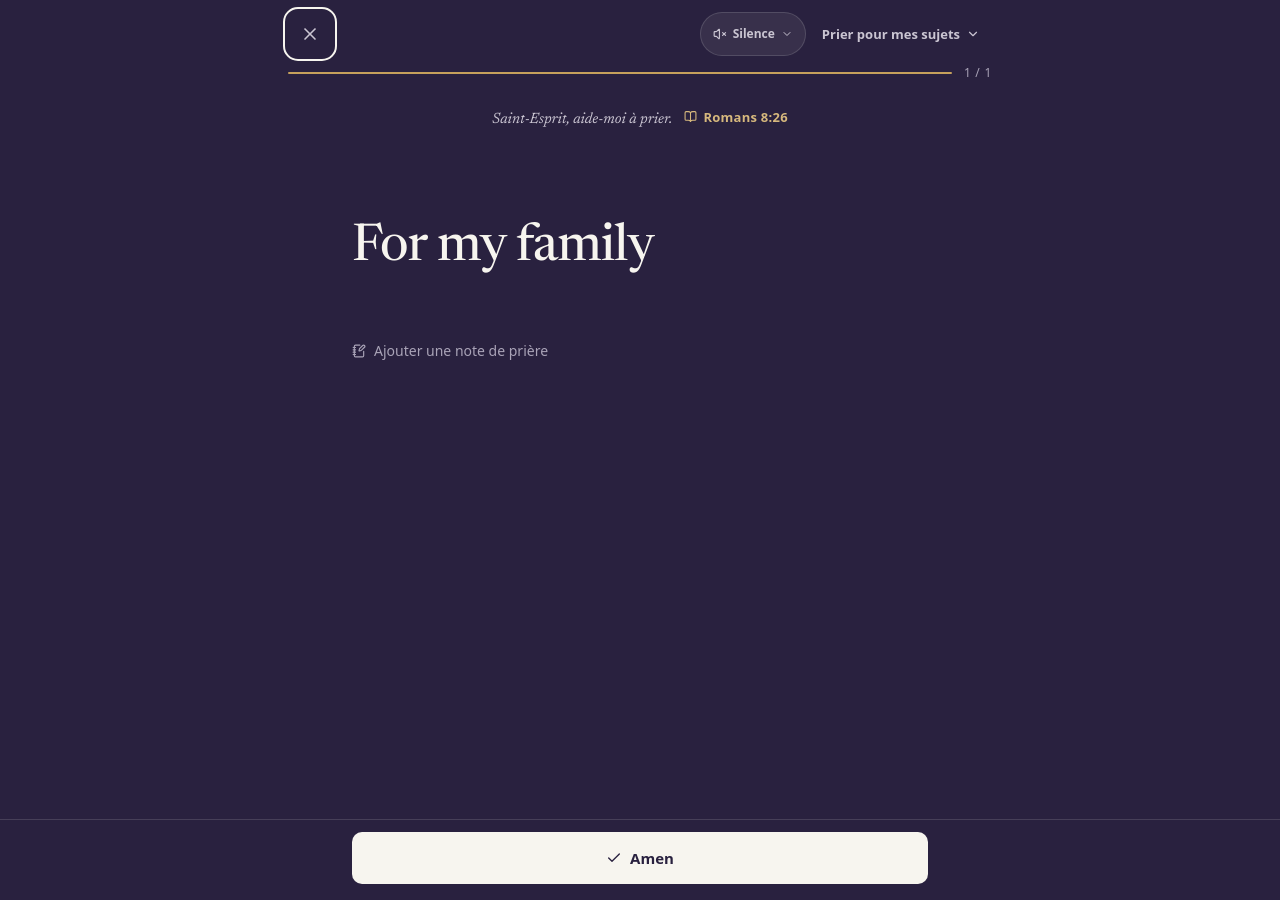
Test: the composer › makes local persistence clear, then restores and summarises the draft while collapsed
Step 1. Click the button "Ajouter une note de prière" → {"x": 450, "y": 351}, box [352,329,548,373]
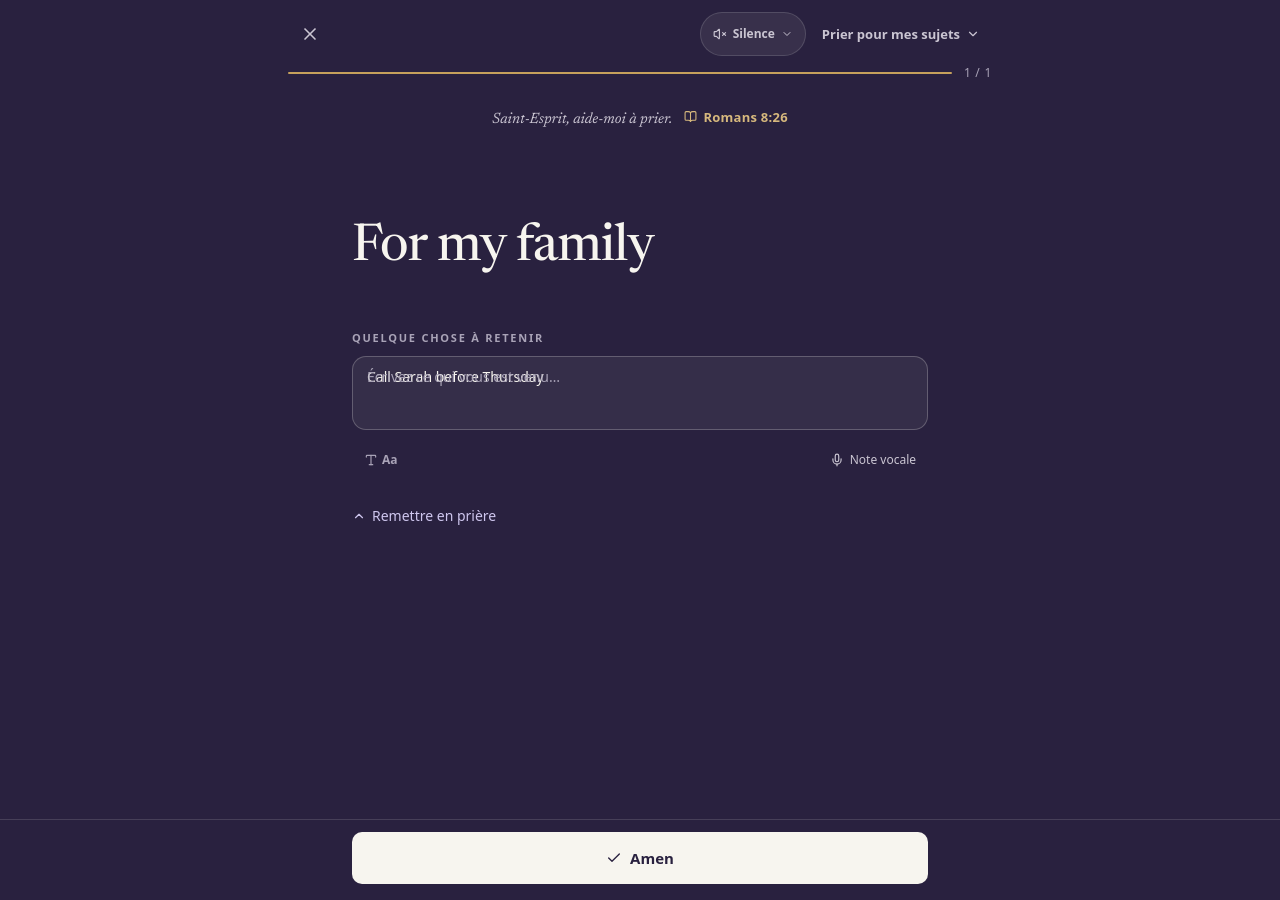
Step 2. Clear the field named "Quelque chose à retenir" → {"x": 455, "y": 376}, box [367,367,544,386]
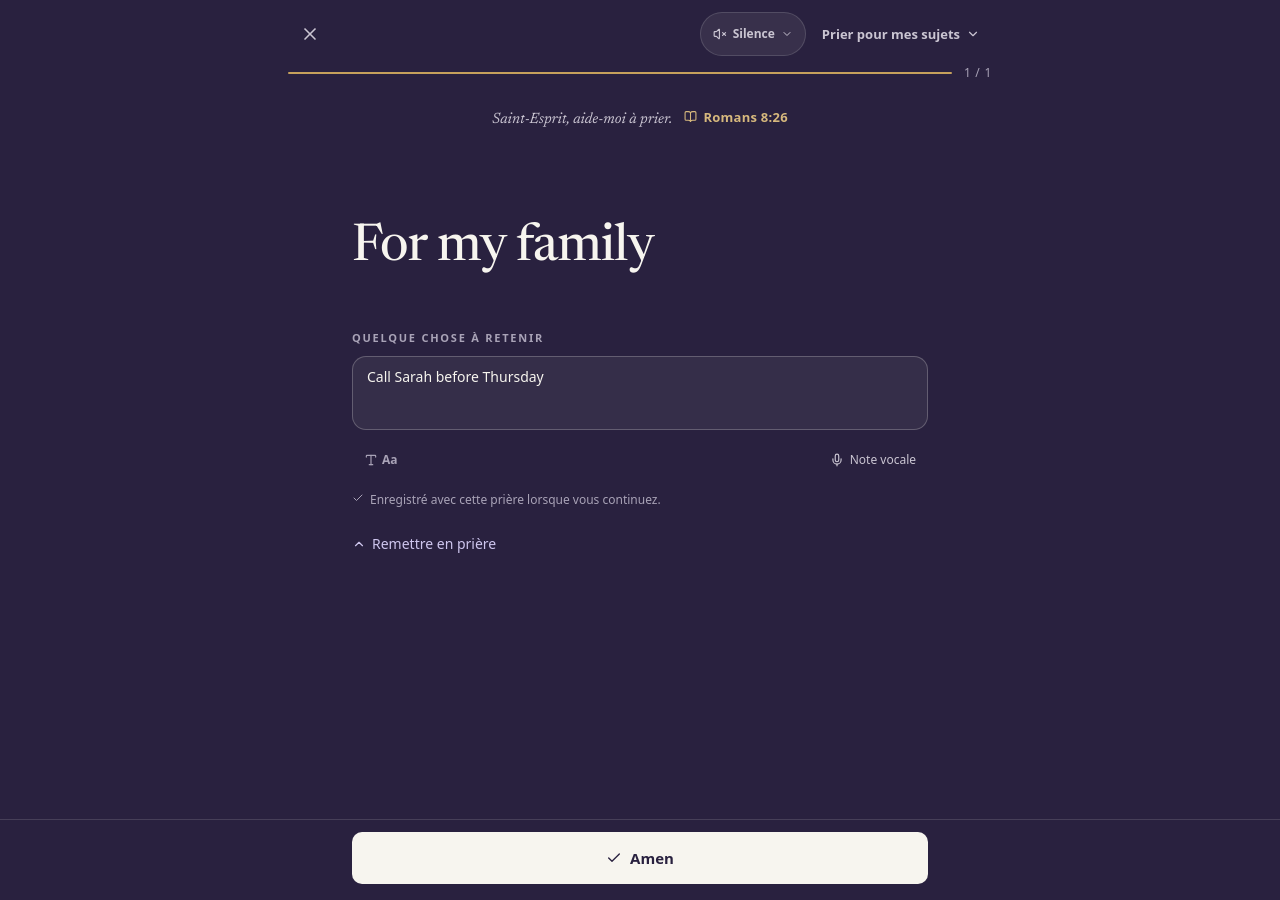
Expected: the message reads "Enregistré avec cette prière lorsque vous continuez.", [370,491,661,508]
Step 3. Click the button "Remettre en prière" → {"x": 424, "y": 544}, box [352,522,496,566]
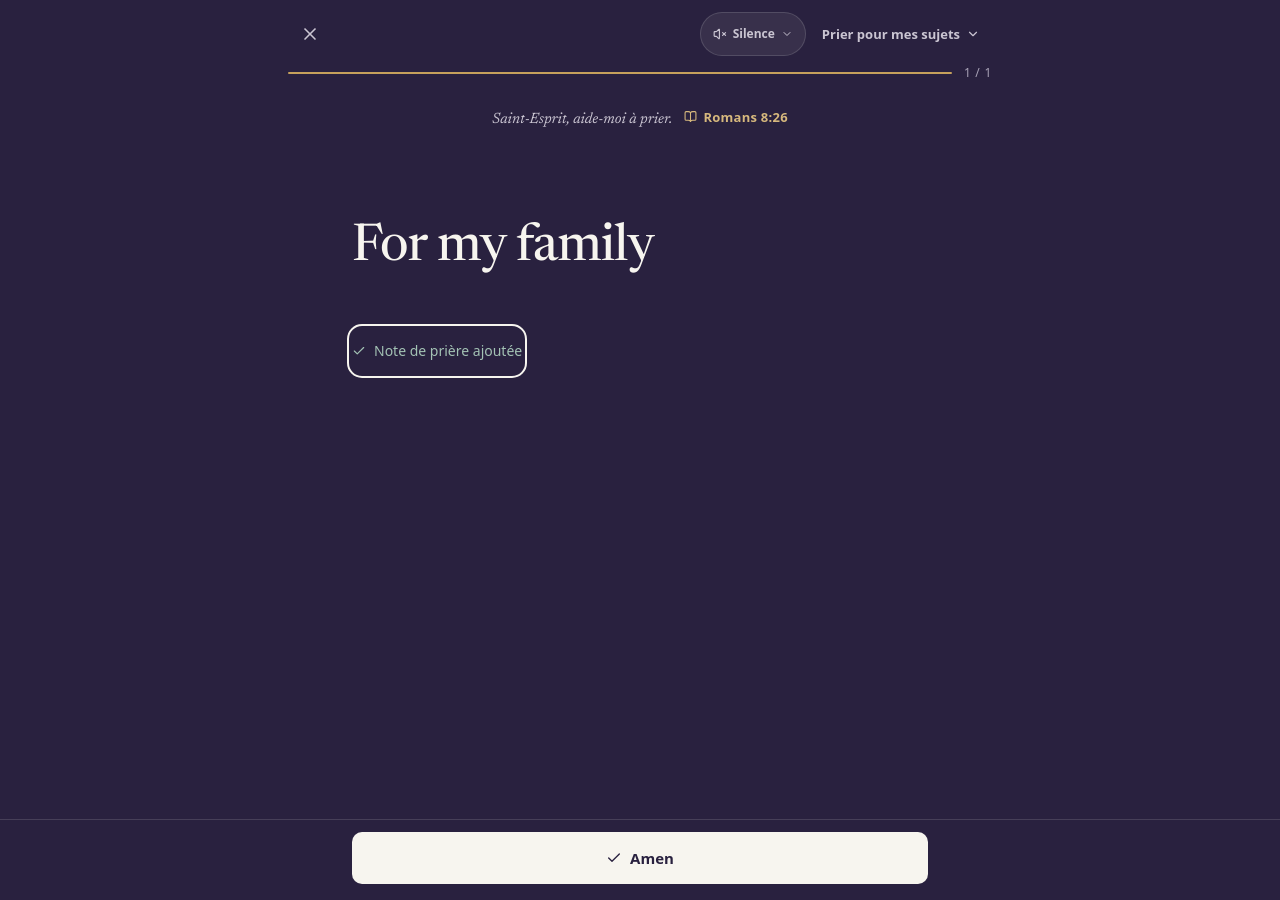
Expected: the button "Note de prière ajoutée" is shown
Step 4. Click the button "Note de prière ajoutée" → {"x": 437, "y": 351}, box [352,329,522,373]
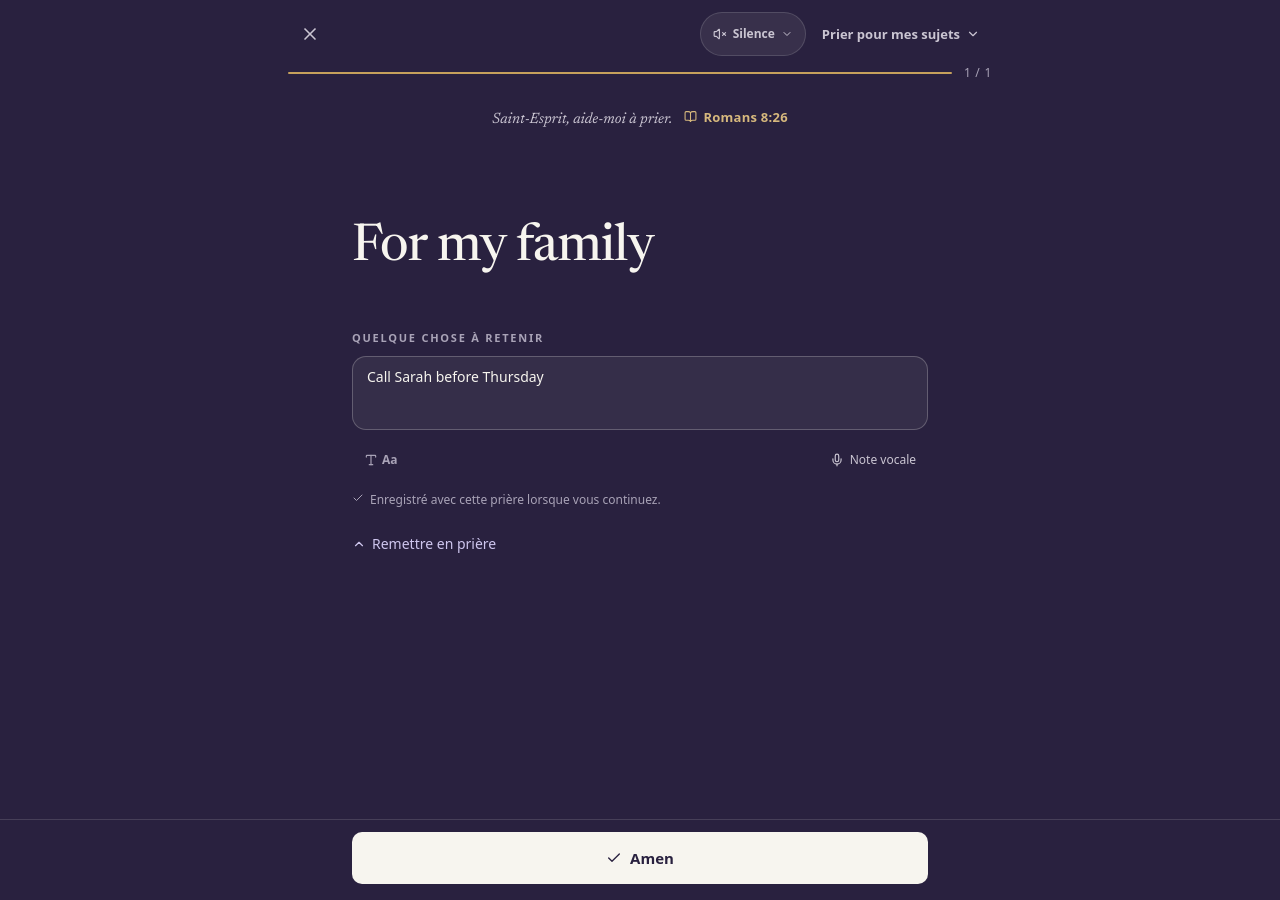
Expected: the field named "Quelque chose à retenir" reads "Call Sarah before Thursday", [367,367,544,386]
